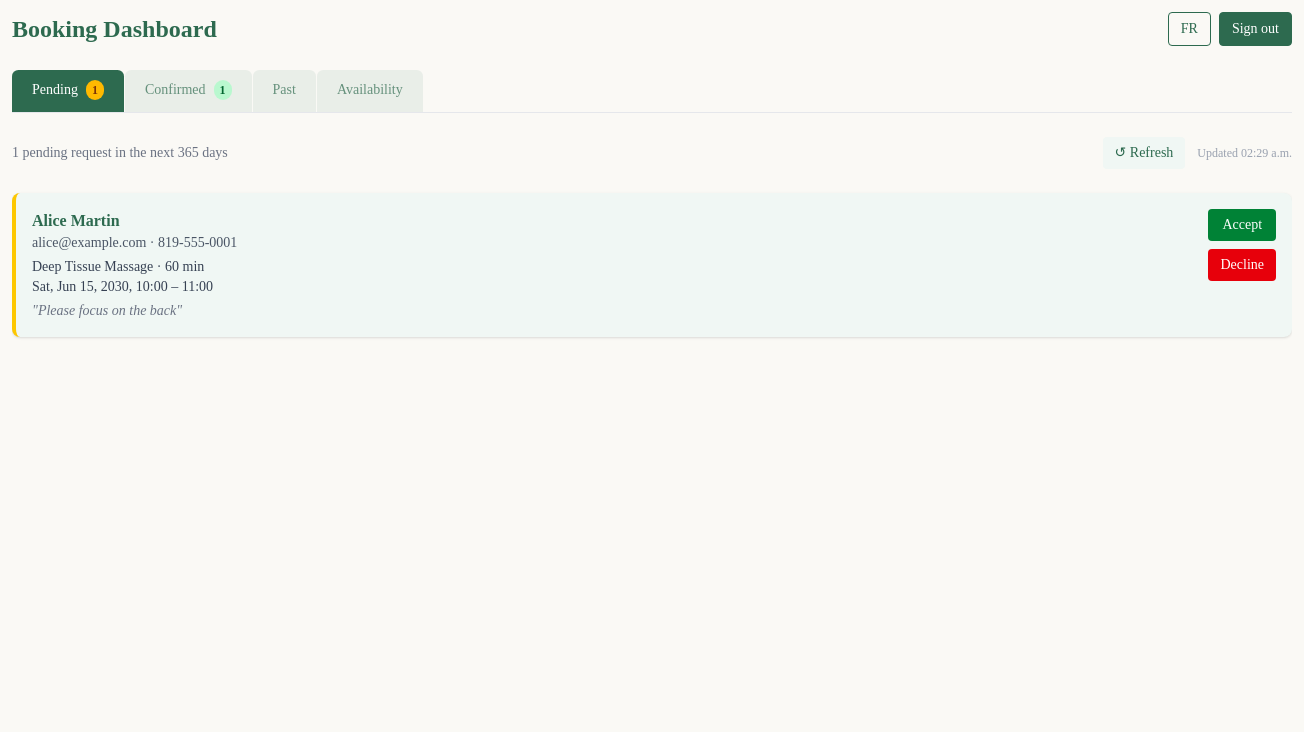
Test case: AdminDashboard › Availability tab — add-block form validation › shows error when end time is less than 1 hour after start
The image size is (1304, 732).
Click the button with test id "tab-availability" at [370, 91], box [317,70,423,112]
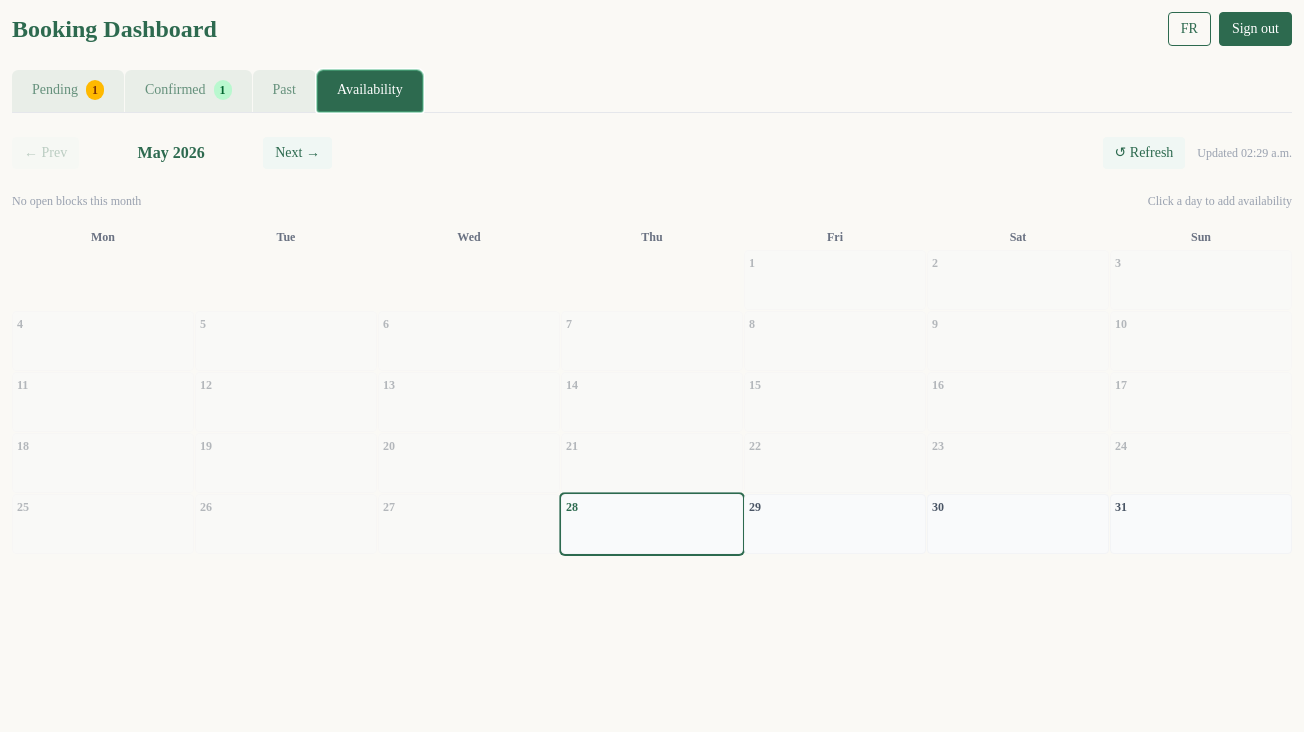
Click the button "Next →" at [298, 153], box [263,137,332,169]
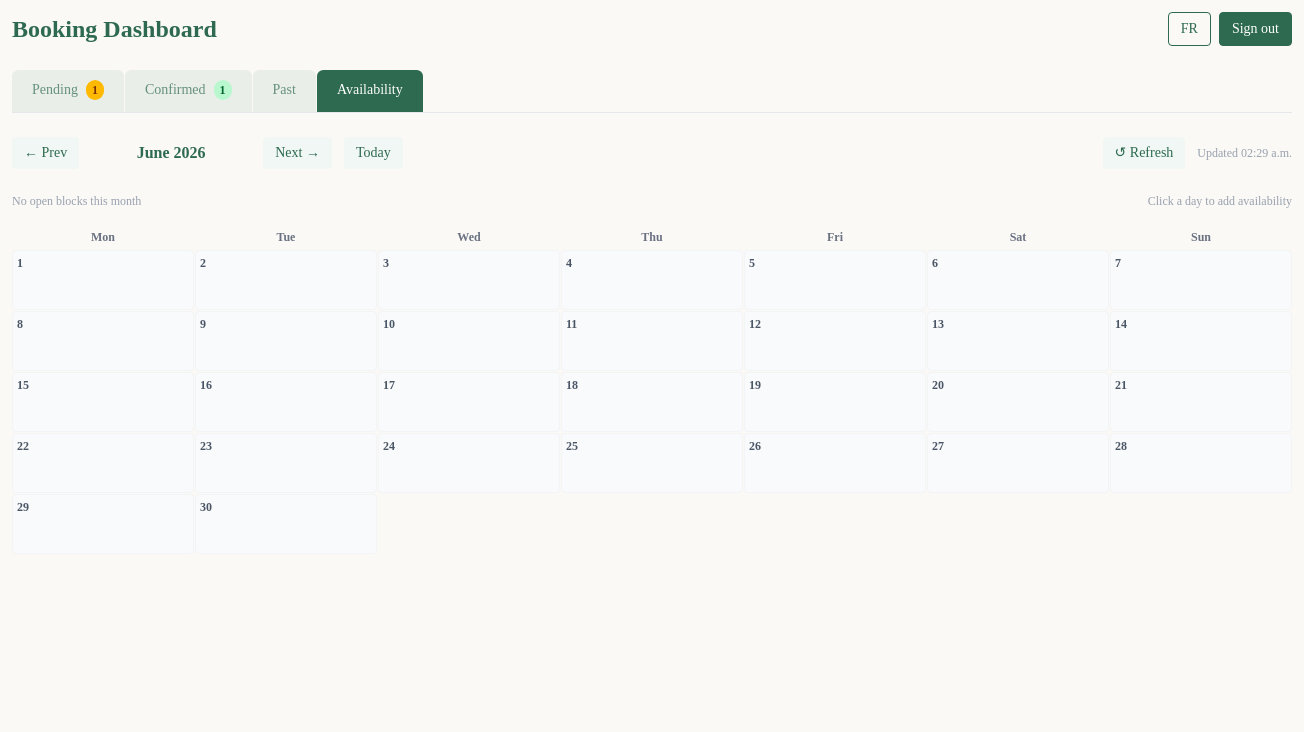
Click the text "15" at [23, 385], box [17,377,29,393]
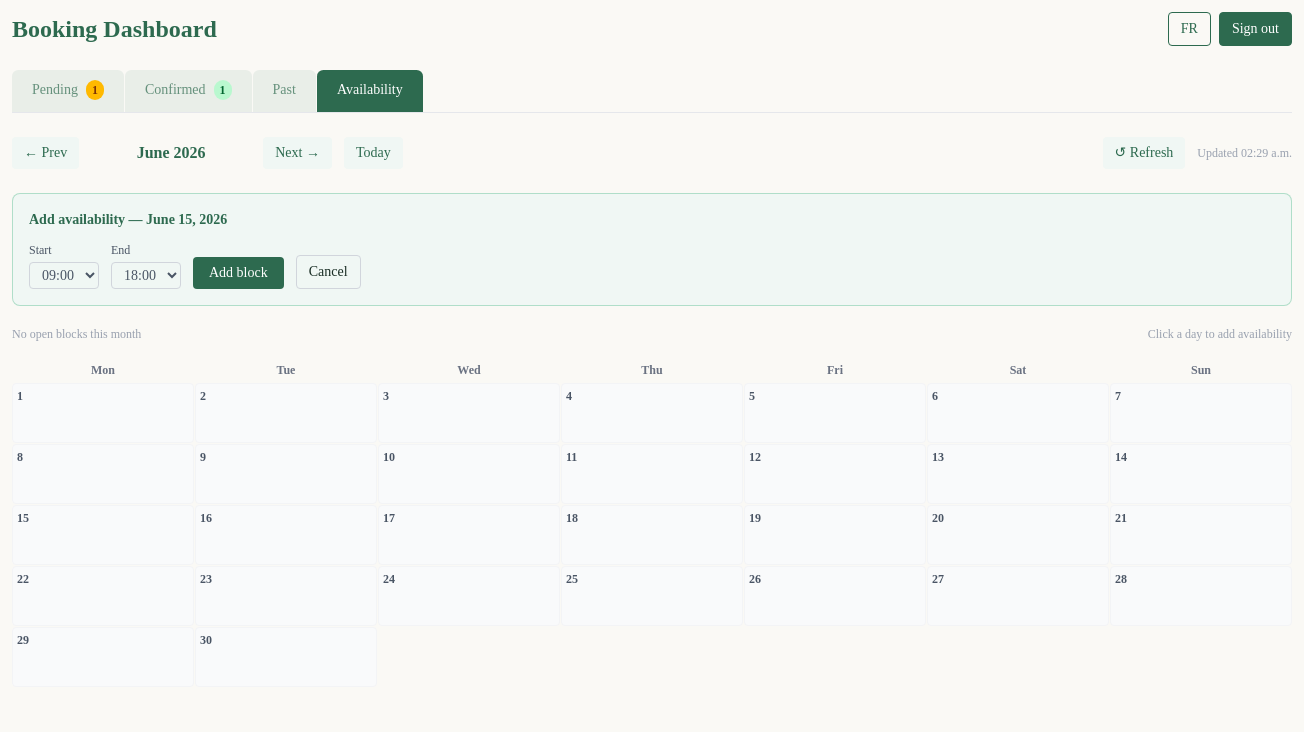
Expected: the text "Add availability — June 15, 2026" is shown, [29,212,227,227]
Select "09:30" in the dropdown labelled "End" at [146, 276], box [111,262,181,289]
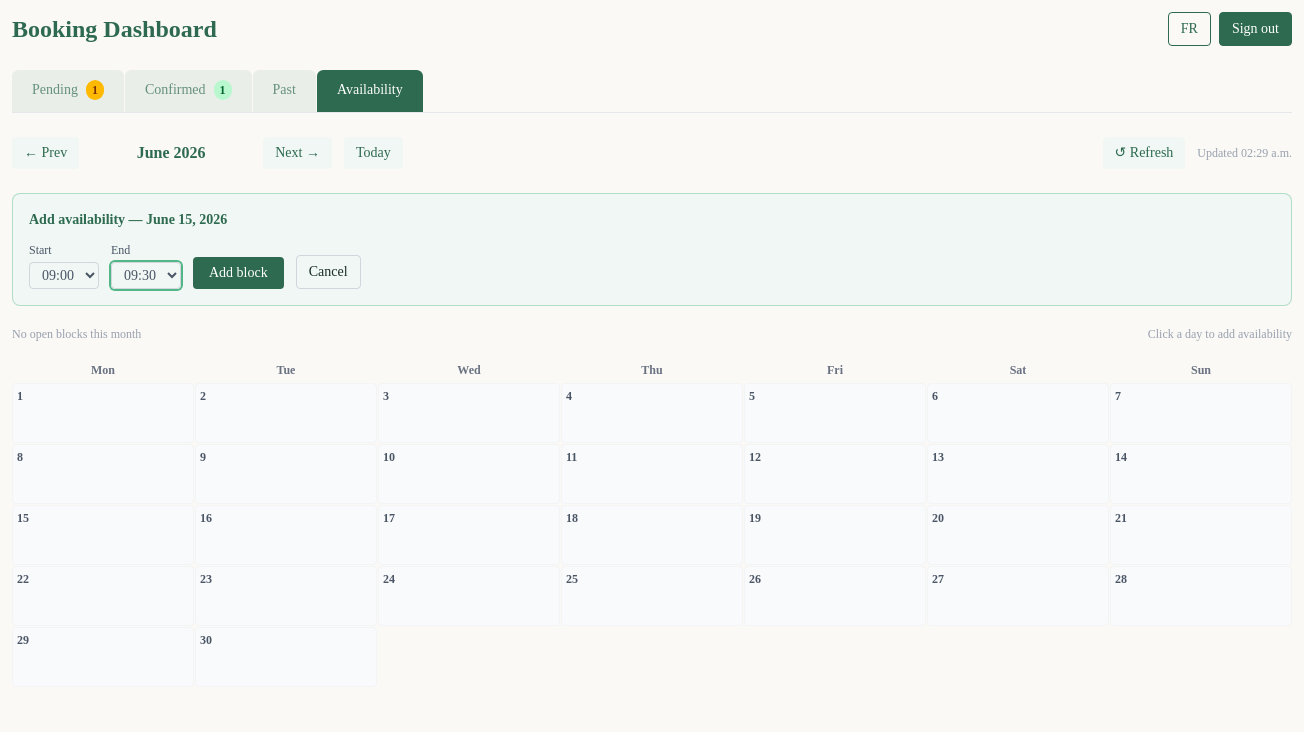
Click the button "Add block" at [238, 273], box [193,257,284,289]
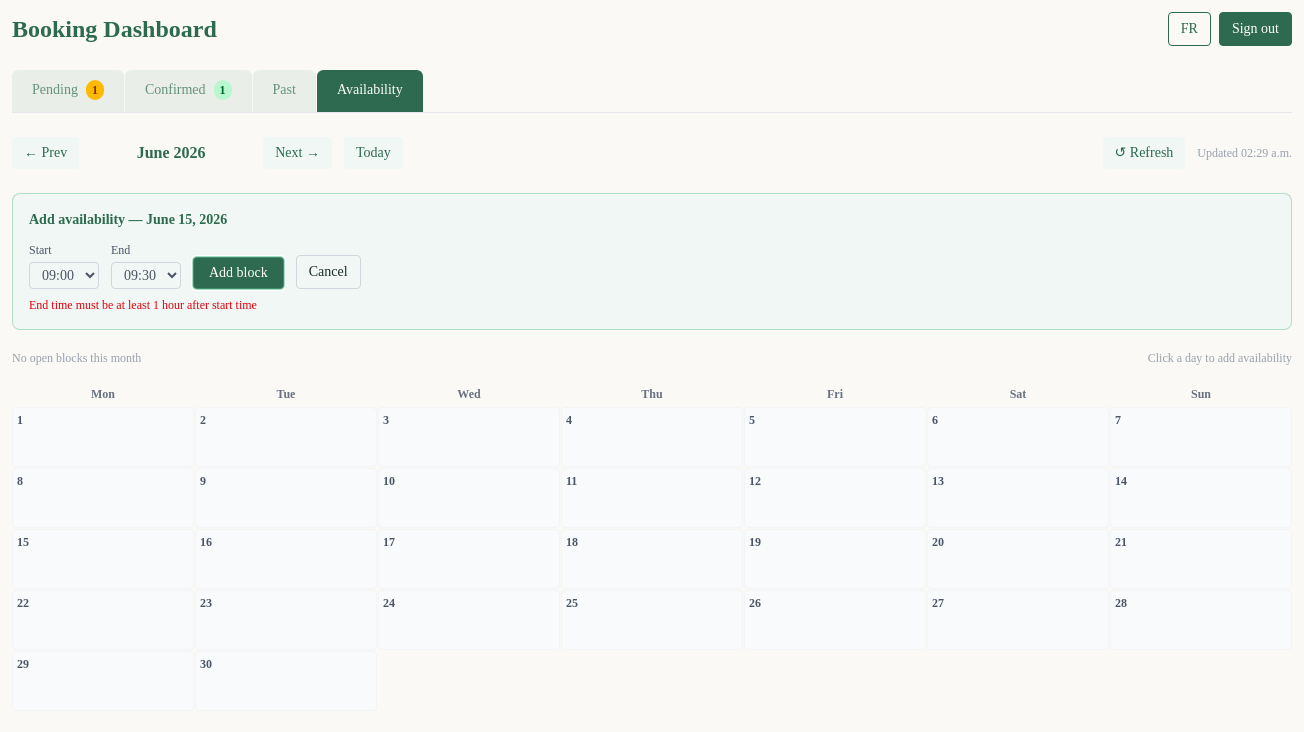
Expected: the text "End time must be at least 1 hour after start time" is shown, [29,298,257,312]
